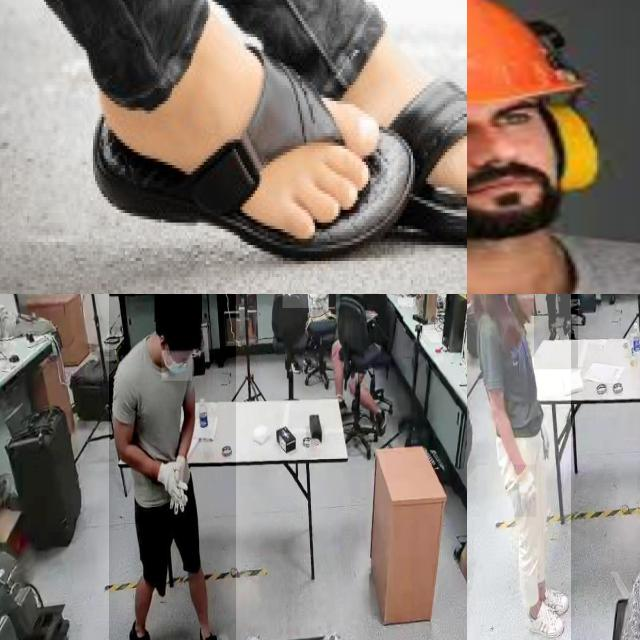Ear-protection: (467, 0, 612, 240)
No_Glasses: (467, 94, 554, 155)
Sandals: (90, 34, 413, 258)
face_mask: (162, 350, 192, 380)
hand_glove: (152, 453, 184, 525), (514, 464, 537, 518)
head_nohelmet: (154, 294, 202, 322)
person: (109, 294, 236, 640), (467, 294, 571, 640), (333, 294, 401, 445), (533, 294, 578, 369)
shoes: (525, 597, 565, 640), (536, 581, 570, 616)
